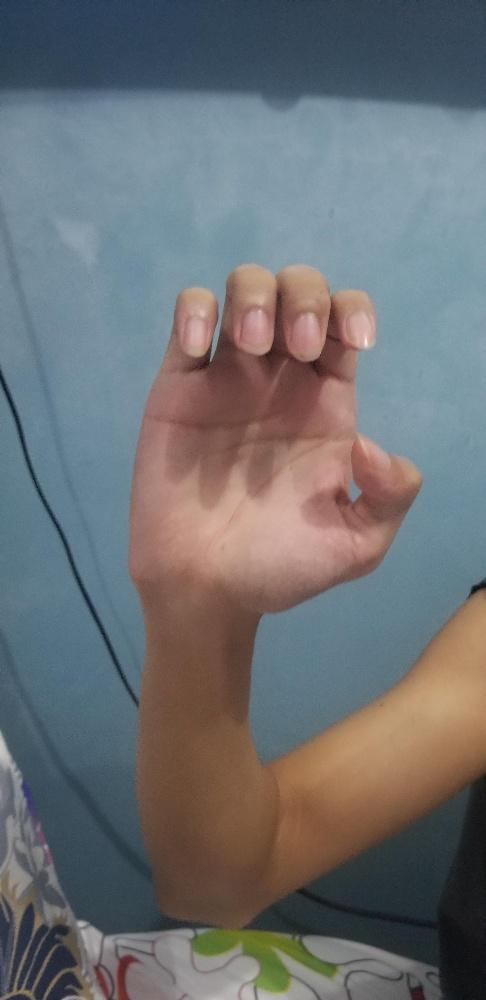e: (121, 256, 425, 609)
